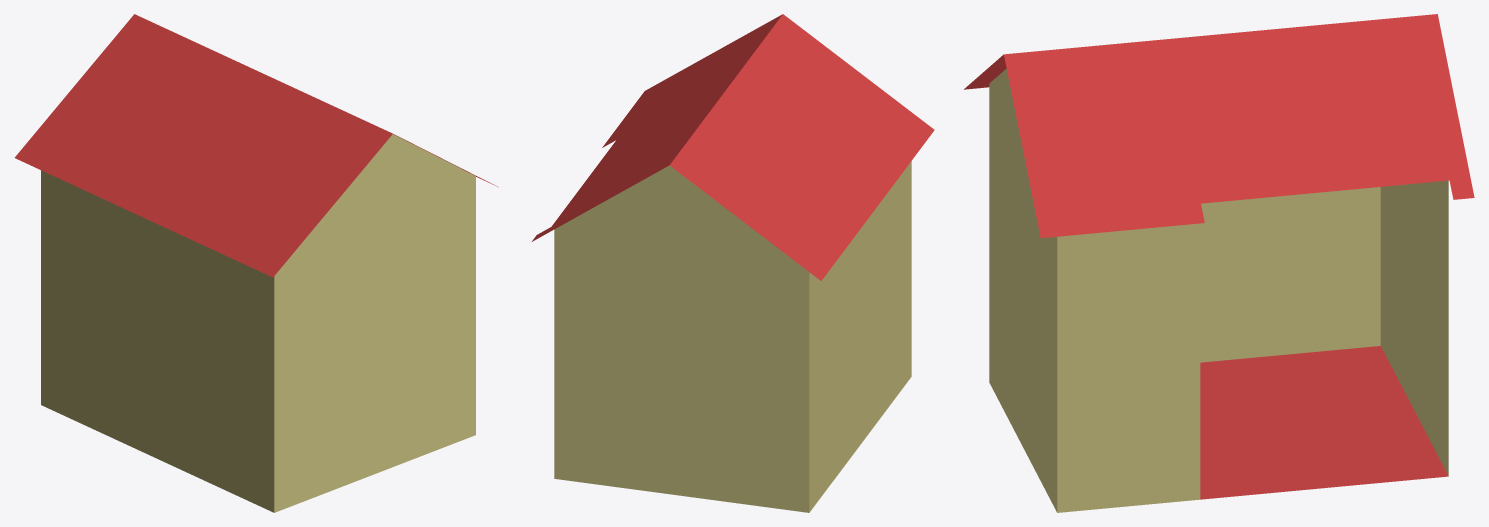
3 views of the same model, side by side, from view 1: azimuth 30°, elevation 25°; view 2: azimuth 150°, elevation 25°; view 3: azimuth 270°, elevation 25° (orthographic). The views are drawn at different scales.
Bounding box in the file's own units: 10.3 × 11.78 × 10.14.
